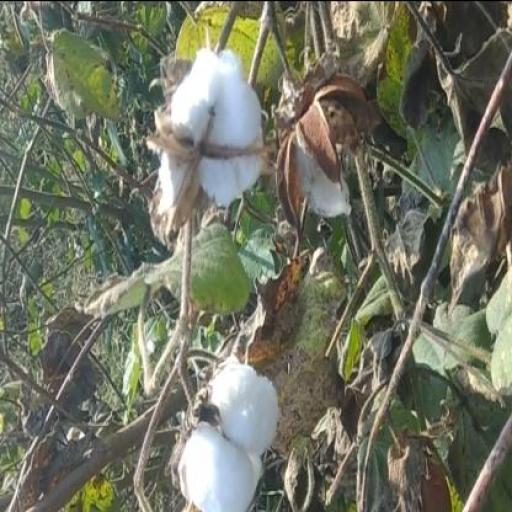cotton_ready: (144, 46, 261, 246), (162, 352, 281, 512)
